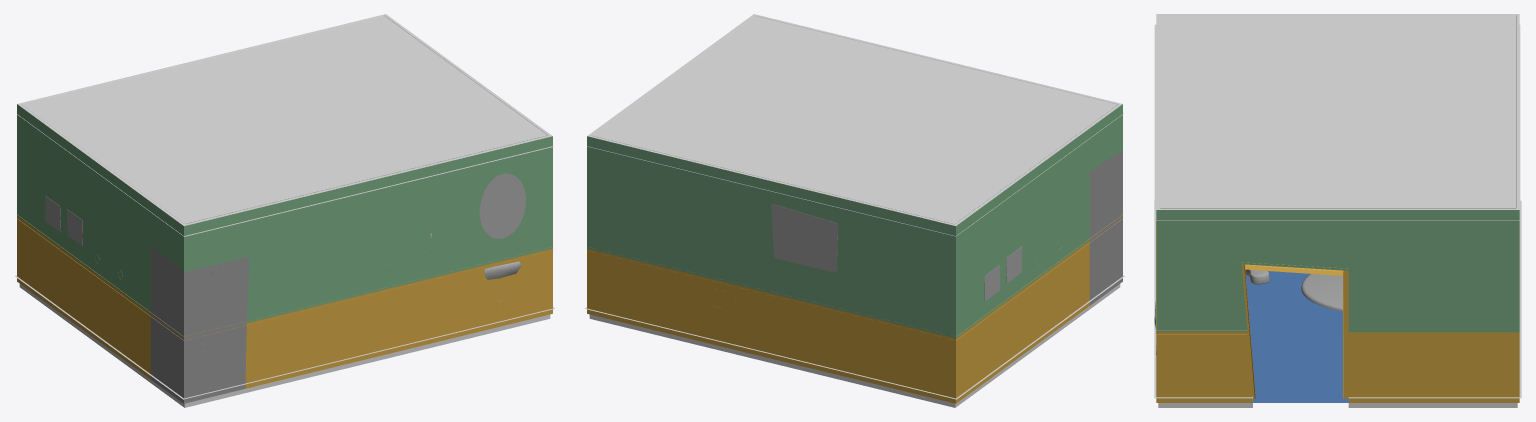
File: Room.FBX
3 renders of one model, left to right at view 1: azimuth 30°, elevation 25°; view 2: azimuth 150°, elevation 25°; view 3: azimuth 270°, elevation 25°, orthographic. The views are drawn at different scales.
Parts seen in each view (by area): view 1: Room, MirrorOval; view 2: Room, CabinetWall2; view 3: Room, Carpet.
Boxes of the visible parts, x1,y1,x2,y2 form: Room: (15,14,554,407); MirrorOval: (479,173,525,238); Room: (585,14,1124,407); CabinetWall2: (771,204,837,272); Room: (1154,14,1521,407); Carpet: (1301,274,1342,311).
Size of the model in its own units: 643 by 302 by 505.
